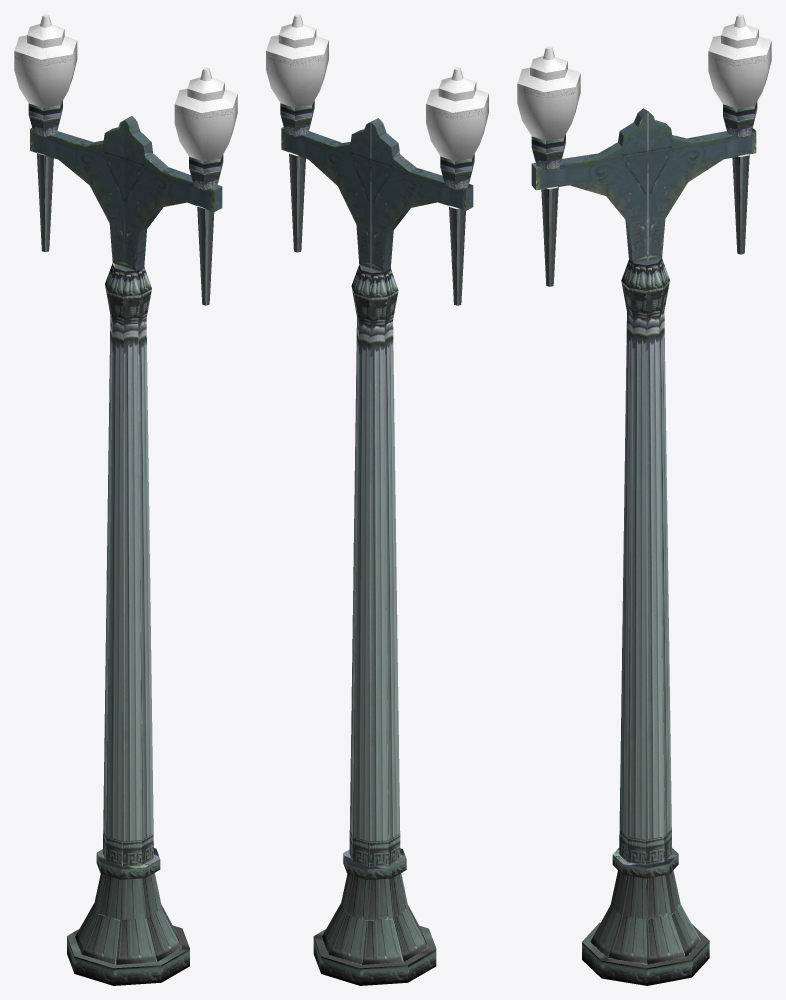
File: poste-curitiba.dae
3 renders of one model, left to right at view 1: azimuth 30°, elevation 25°; view 2: azimuth 210°, elevation 25°; view 3: azimuth 270°, elevation 25°, orthographic.
Visible parts, largest first — view 1: group_1 (×8), group_5, Component_1 (×5), group_3 (×2); view 2: group_1 (×8), group_5, Component_1 (×6), group_3 (×2); view 3: group_1 (×8), group_5, Component_1 (×4), group_3 (×2).
Part boxes in pixels (box(x1,y1,x2,y2)): group_1 (×8): box(67, 263, 189, 985); group_5: box(30, 116, 222, 271); Component_1 (×5): box(14, 15, 237, 161); group_3 (×2): box(37, 153, 214, 305); group_1 (×8): box(313, 262, 436, 985); group_5: box(281, 118, 473, 272); Component_1 (×6): box(266, 15, 488, 190); group_3 (×2): box(289, 153, 465, 305); group_1 (×8): box(582, 255, 709, 985); group_5: box(531, 108, 756, 265); Component_1 (×4): box(517, 15, 771, 140); group_3 (×2): box(541, 154, 749, 286).
Size of the model in its own units: 40.87 by 72.24 by 290.
Materials: 16 (15 with a texture image).
